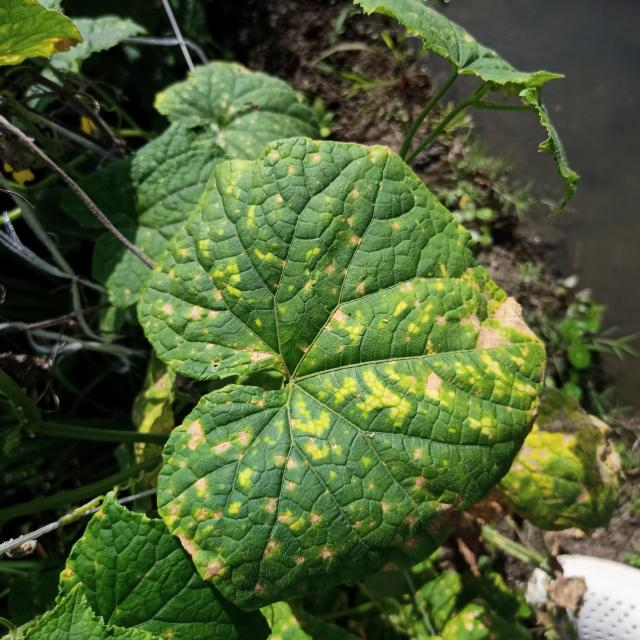disease_cucumber: (161, 155, 536, 602)
